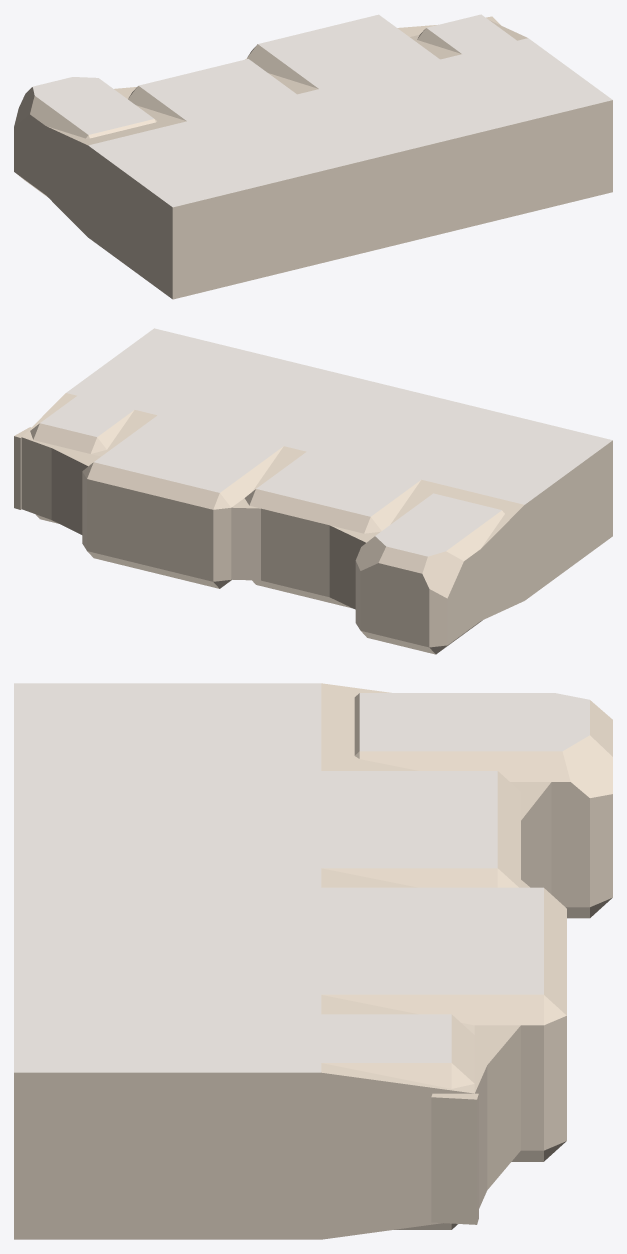
The model's file is temple_Floor_Ruined_Straight_1.glb.
The picture shows the model from 3 angles, top to bottom: view 1: azimuth 30°, elevation 25°; view 2: azimuth 150°, elevation 25°; view 3: azimuth 270°, elevation 25°; orthographic projection. The views are drawn at different scales.
Visible parts, largest first — view 1: object1; view 2: object1; view 3: object1.
Boxes of the visible parts, x1,y1,x2,y2 form: object1: [14, 14, 612, 299]; object1: [14, 328, 612, 654]; object1: [14, 683, 612, 1239].
Size of the model in its own units: 1.02 by 0.2 by 0.65.
